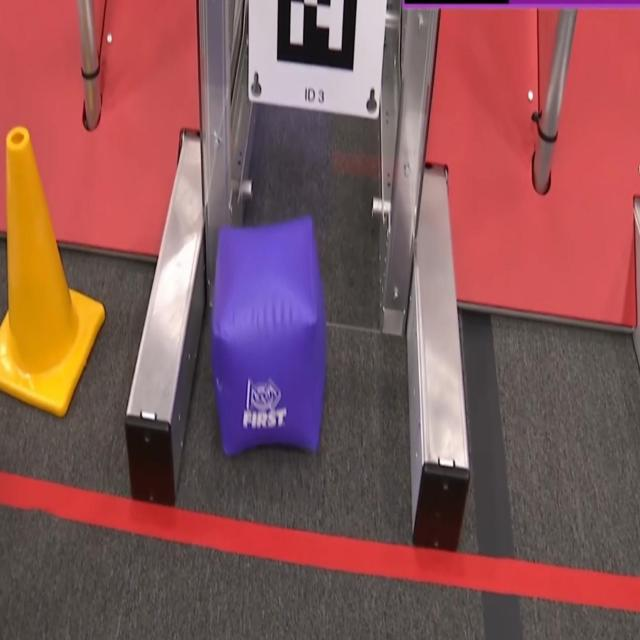frc_cone: (0, 123, 103, 421)
frc_cube: (210, 221, 326, 460)
